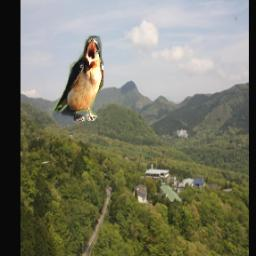Swallow: (54, 37, 104, 122)
